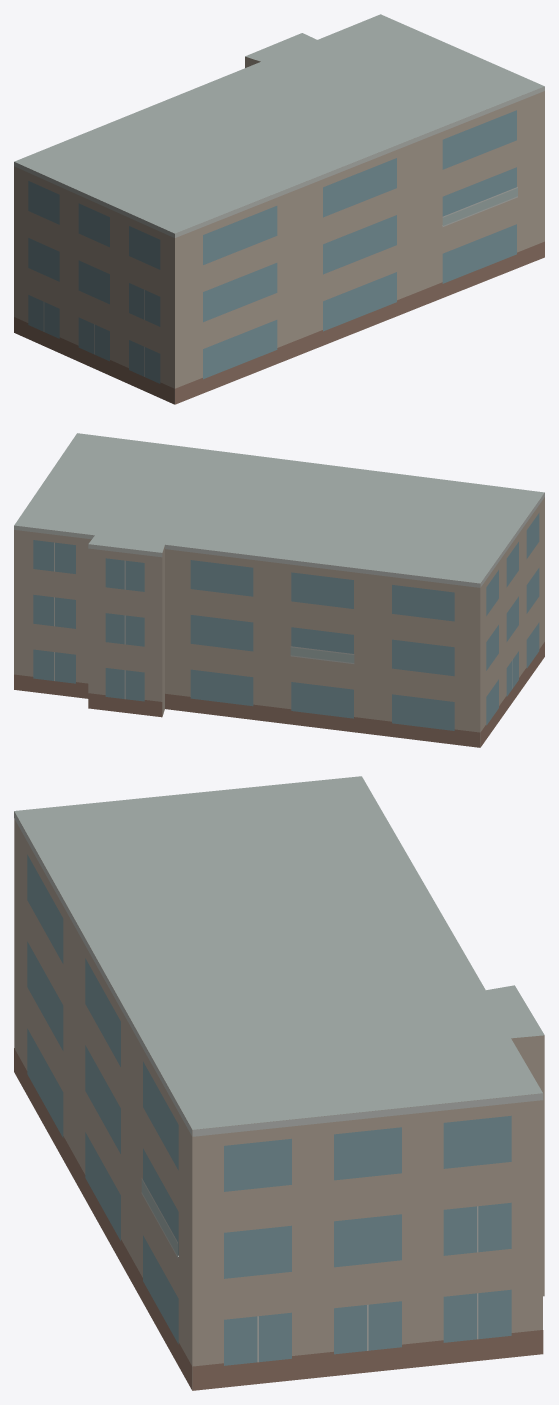
The model's file is survey-upis-32687516.glb.
The picture shows the model from 3 angles, top to bottom: view 1: azimuth 30°, elevation 25°; view 2: azimuth 150°, elevation 25°; view 3: azimuth 270°, elevation 25°; orthographic projection. The views are drawn at different scales.
Parts seen in each view (by area): view 1: survey-upis-32687516.tmp; view 2: survey-upis-32687516.tmp; view 3: survey-upis-32687516.tmp.
Part boxes in pixels (x1,y1,x2,y2): survey-upis-32687516.tmp: (14,14,544,404); survey-upis-32687516.tmp: (14,433,544,747); survey-upis-32687516.tmp: (14,776,544,1390).
Size of the model in its own units: 26.62 by 9.15 by 16.88.
